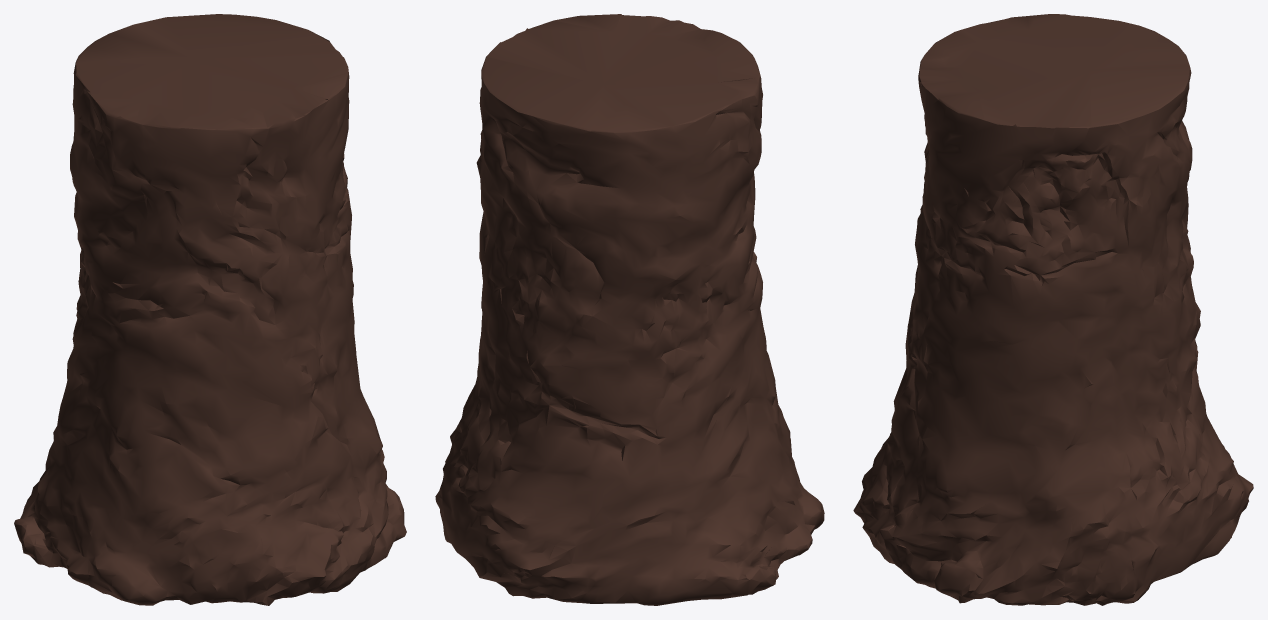
Rendered from Wall_Cylinder_10m.fbx.
3 views of the same model, side by side, from view 1: azimuth 30°, elevation 25°; view 2: azimuth 150°, elevation 25°; view 3: azimuth 270°, elevation 25° (orthographic).
Parts seen in each view (by area): view 1: Wall_Cylinder_10m; view 2: Wall_Cylinder_10m; view 3: Wall_Cylinder_10m.
Part boxes in pixels (x1,y1,x2,y2): Wall_Cylinder_10m: [14, 14, 406, 605]; Wall_Cylinder_10m: [435, 14, 824, 605]; Wall_Cylinder_10m: [853, 14, 1253, 605].
Size of what is drawn, in the model's own units: 1124 by 1572 by 1200.
1 material, 1 textured.
